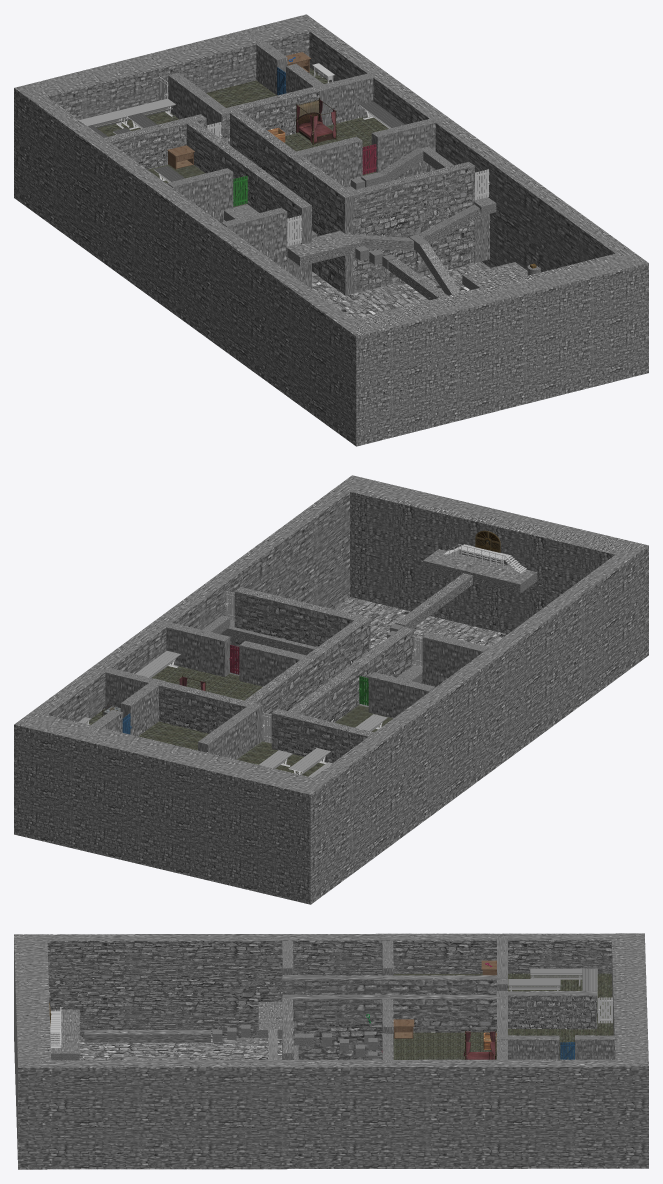
File: castleFinal.fbx
3 renders of one model, top to bottom at view 1: azimuth 30°, elevation 25°; view 2: azimuth 150°, elevation 25°; view 3: azimuth 270°, elevation 25°, orthographic. The views are drawn at different scales.
Visible parts, largest first — view 1: Cube.003_Cube.006, Cube.009_Cube.010, Cube.006_Cube.000, Cube.006_Cube.007, Cube.011_Cube.012, Cube_Cube.001, Cube.002_Cube.003, Cube.012_Cube.013, Cube.014_Cube.015, Cube.013_Cube.014, Plane, Cube.001_Cube.002 (+14 smaller); view 2: Cube.003_Cube.006, Cube.006_Cube.000, Cube.009_Cube.010, Cube.006_Cube.007, Cube.002_Cube.003, Cube_Cube.001, Cube.012_Cube.013, Cube.010_Cube.011_Cube.010_Cube.014, Cube.014_Cube.015, Plane, Cube.011_Cube.012, Cube.004_Cube.005 (+6 smaller); view 3: Cube.003_Cube.006, Cube.006_Cube.000, Cube.006_Cube.007, Cube.004_Cube.005, Plane, Plane.017, HiddenBridge_Cube.010_Cube.012, Cube.003_Cube.004, Cube.010_Cube.011_Cube.010_Cube.014, Cube.015_Cube.016, Cube.010_Cube.000, Cube.009_Cube.010 (+11 smaller).
Part boxes in pixels (x1,y1,x2,y2): Cube.003_Cube.006: (14,14,648,446); Cube.009_Cube.010: (350,162,474,293); Cube.006_Cube.000: (230,106,354,295); Cube.006_Cube.007: (186,117,317,288); Cube.011_Cube.012: (296,136,496,215); Cube_Cube.001: (97,114,206,169); Cube.002_Cube.003: (215,85,324,144); Cube.012_Cube.013: (371,118,440,180); Cube.014_Cube.015: (221,207,287,270); Cube.013_Cube.014: (167,168,233,222); Plane: (95,68,329,136); Cube.001_Cube.002: (324,73,373,124); Cube.003_Cube.006: (14,475,648,904); Cube.006_Cube.000: (239,616,370,741); Cube.009_Cube.010: (234,587,362,667); Cube.006_Cube.007: (283,626,413,722); Cube.002_Cube.003: (154,680,262,744); Cube_Cube.001: (266,709,381,762); Cube.012_Cube.013: (162,621,230,676); Cube.010_Cube.011_Cube.010_Cube.014: (423,549,537,593); Cube.014_Cube.015: (422,632,488,687); Plane: (87,708,324,776); Cube.011_Cube.012: (202,617,305,686); Cube.004_Cube.005: (198,704,256,759); Cube.003_Cube.006: (14,933,648,1169); Cube.006_Cube.000: (282,994,506,1059); Cube.006_Cube.007: (282,975,506,995); Cube.004_Cube.005: (501,991,597,1029); Plane: (508,973,613,1059); Plane.017: (393,1032,491,1059); HiddenBridge_Cube.010_Cube.012: (84,1030,210,1042); Cube.003_Cube.004: (373,1032,559,1059); Cube.010_Cube.011_Cube.010_Cube.014: (50,1009,79,1060); Cube.015_Cube.016: (575,1035,638,1059); Cube.010_Cube.000: (258,1002,282,1038); Cube.009_Cube.010: (282,998,293,1059).
Size of the model in its own units: 6787 by 2412 by 13575.
